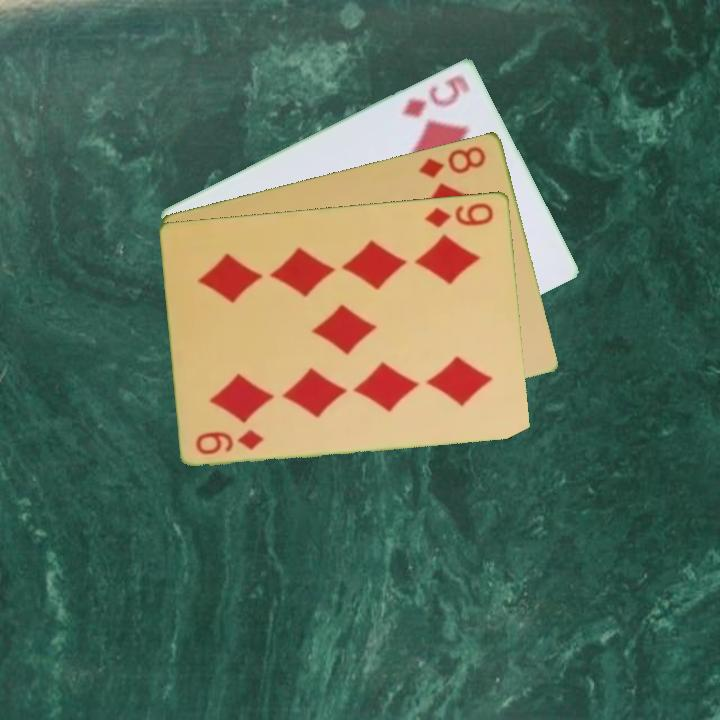5d: (397, 71, 473, 120)
8d: (415, 142, 489, 181)
9d: (421, 198, 496, 230), (192, 425, 267, 457)
